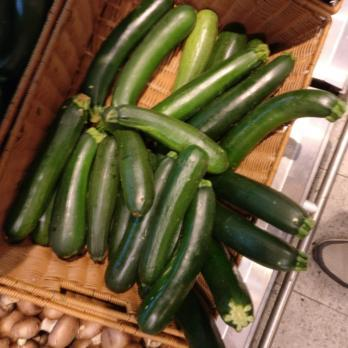Cucumber: (12, 168, 297, 282), (85, 0, 305, 92), (45, 94, 288, 171)
